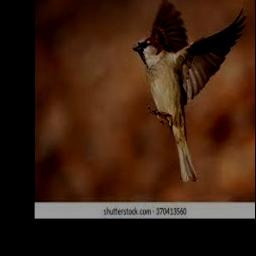Sparrow: (133, 0, 246, 183)
